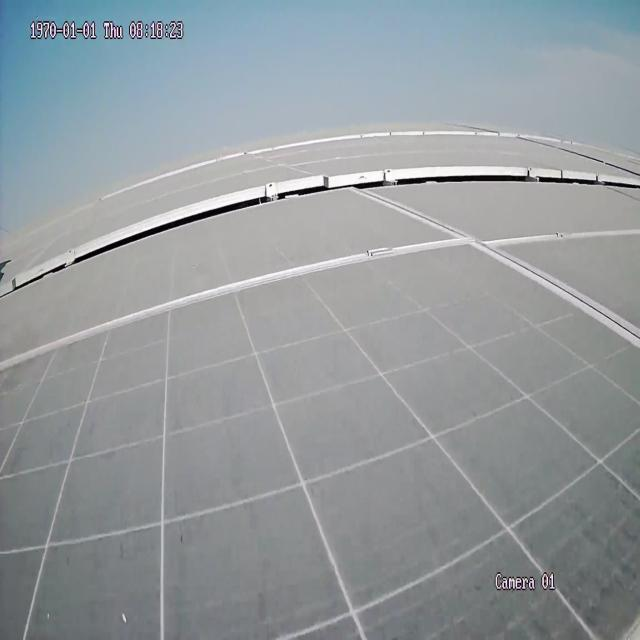interior panel: (0, 190, 635, 373)
